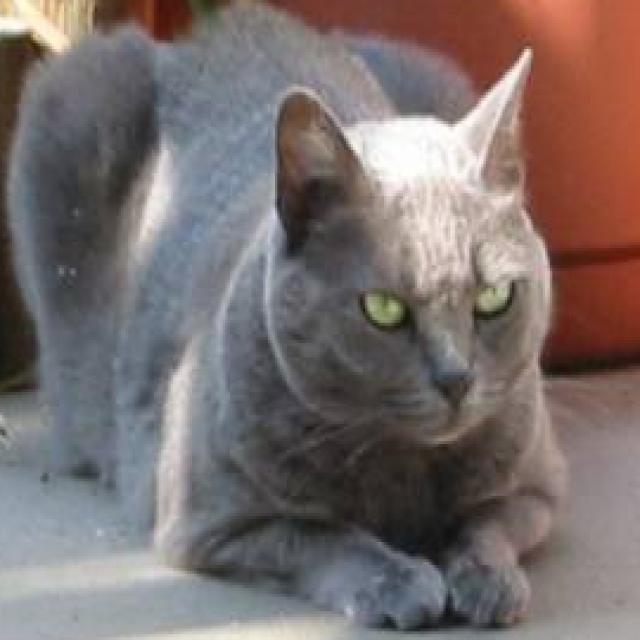Russian Blue: (12, 0, 571, 634)
